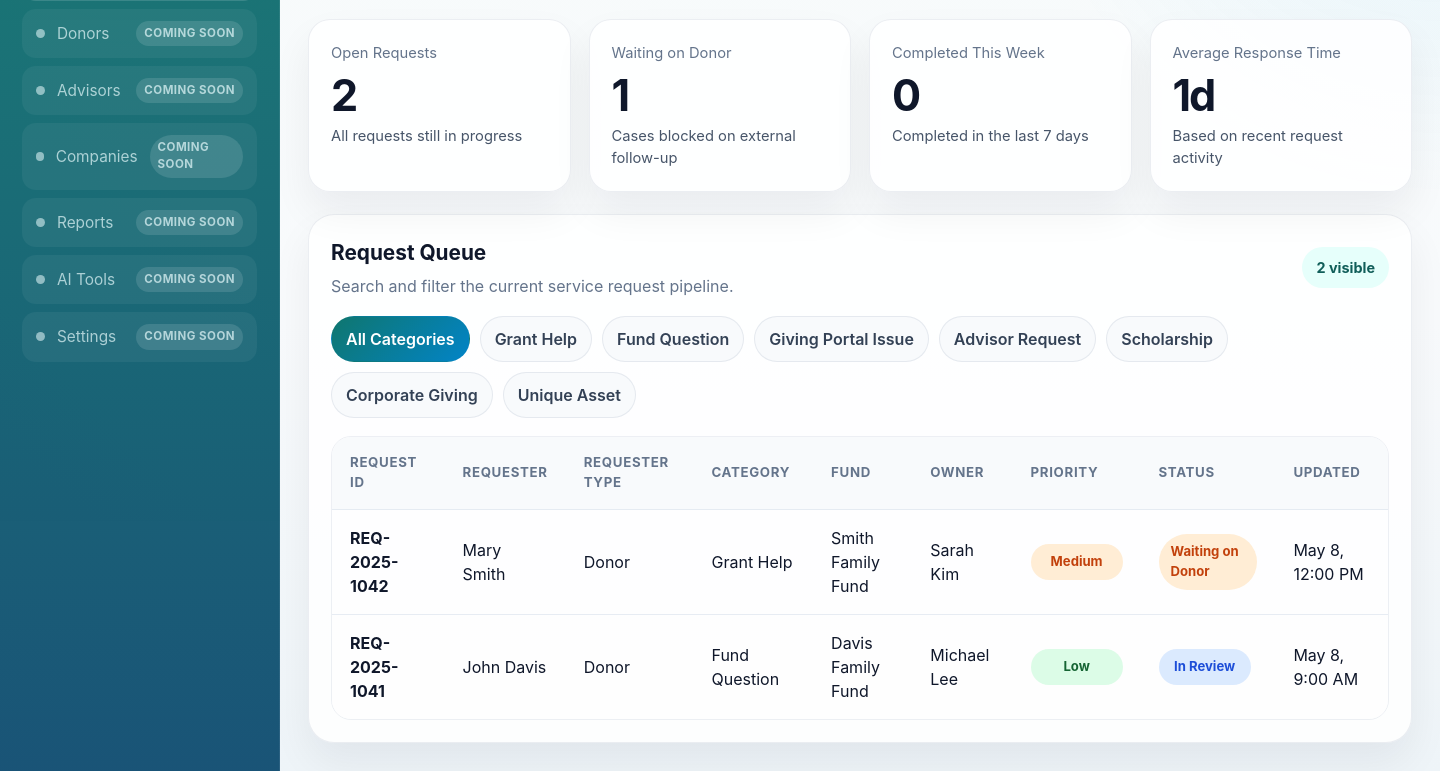
Scenario: RequestsPage › empty note submission shows client-side validation
The image size is (1440, 771).
(page scrolled)
What coordinates should you click on to do the following:
click the text "REQ-2025-1042"
I would click on:
 (388, 562)
Its box is [332,510,444,614].
(page scrolled)
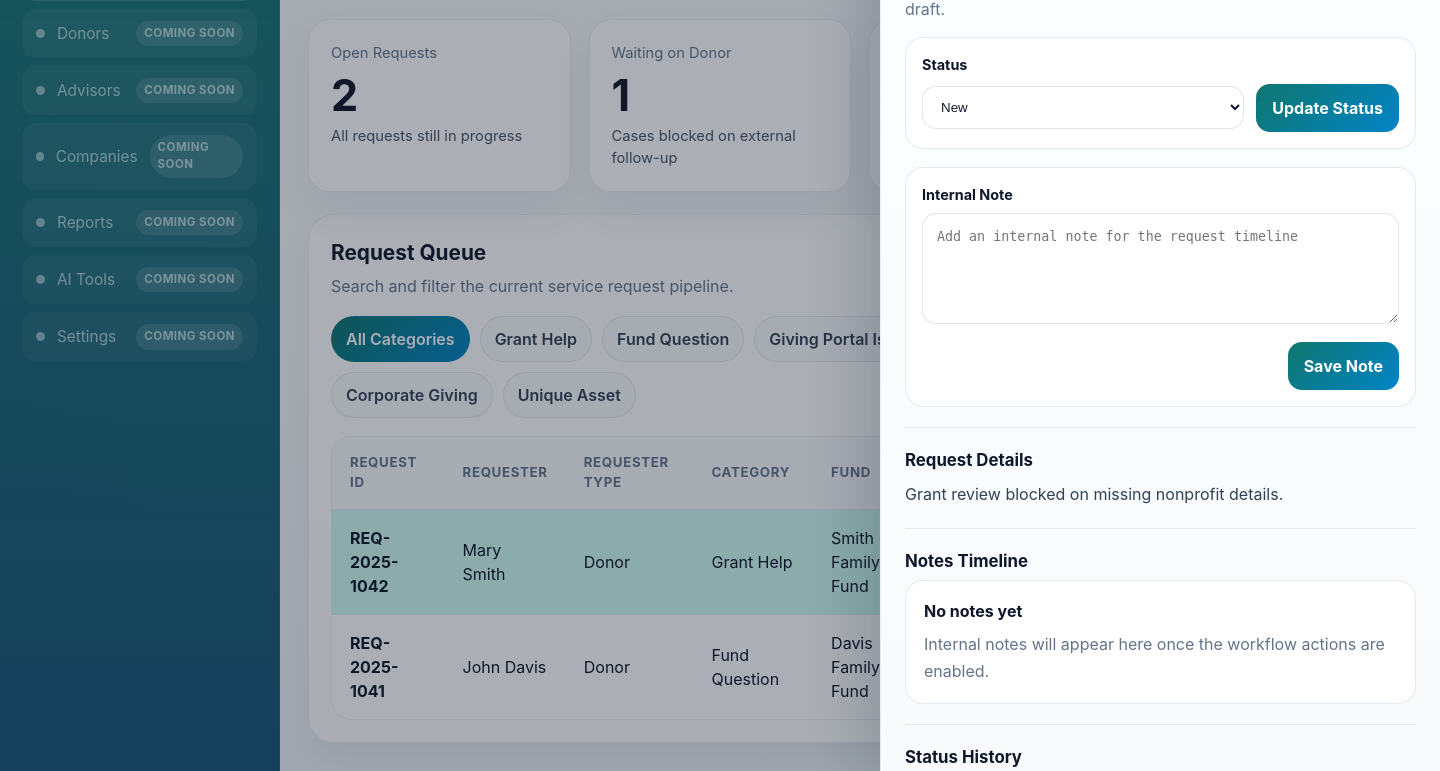
What coordinates should you click on to do the following:
click the button "Save Note"
I would click on:
 (1343, 366)
Its box is [1288,342,1399,390].
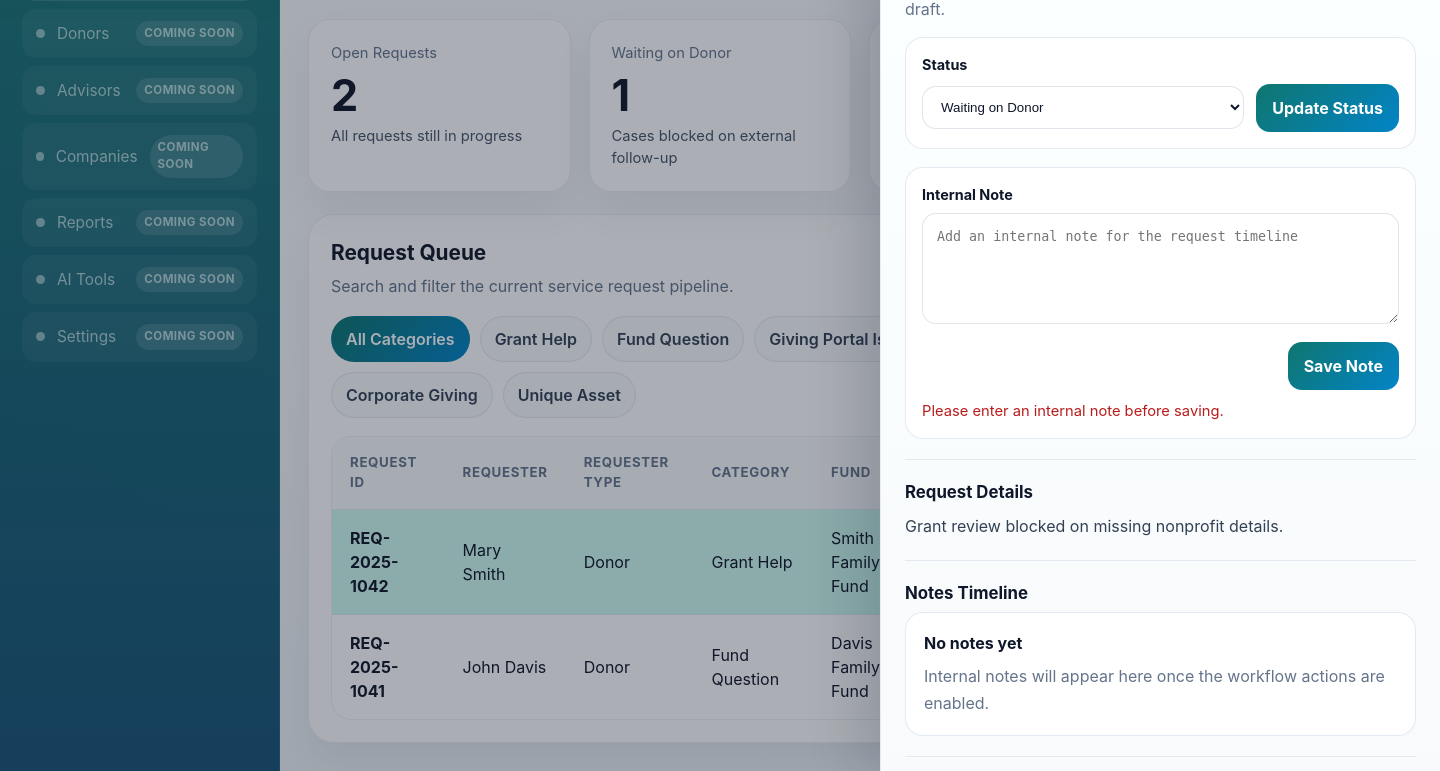
Expected: the text "Please enter an internal note before saving." is shown, [922,402,1224,420]
